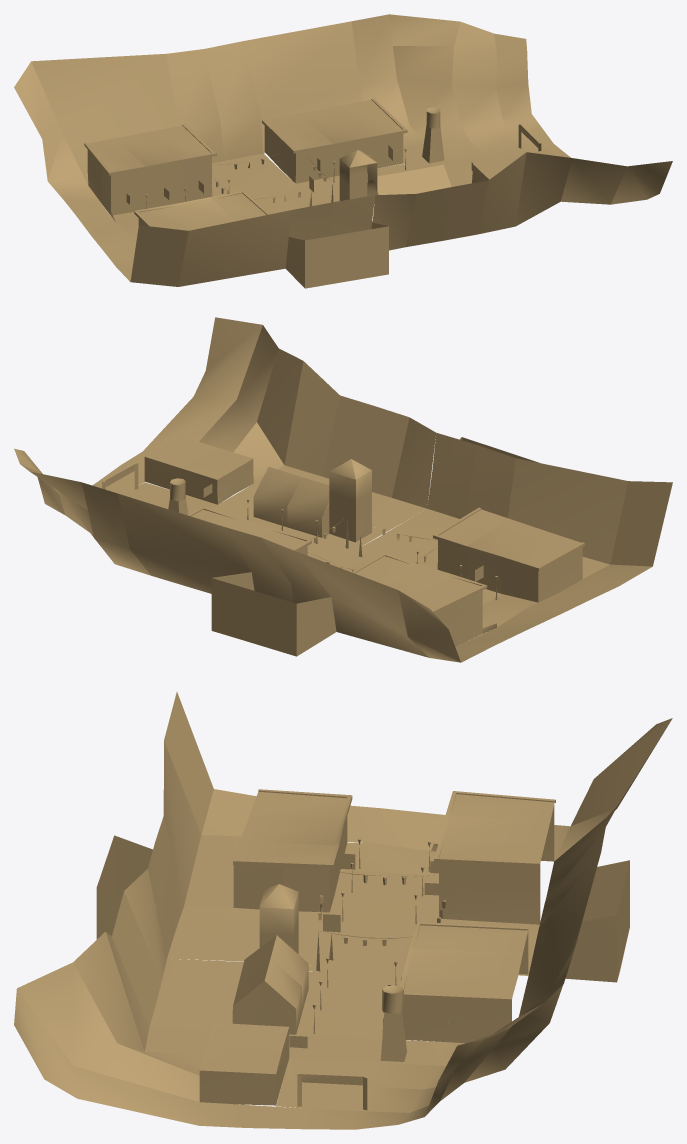
File: seciton1.fbx
3 renders of one model, top to bottom at view 1: azimuth 30°, elevation 25°; view 2: azimuth 150°, elevation 25°; view 3: azimuth 270°, elevation 25°, orthographic. The views are drawn at different scales.
Visible parts, largest first — view 1: New Game Object; view 2: New Game Object; view 3: New Game Object.
Boxes of the visible parts, <box> form: New Game Object: <box>14,14,672,288</box>; New Game Object: <box>14,317,672,662</box>; New Game Object: <box>14,692,672,1129</box>.
Size of the model in its own units: 165 by 31.4 by 137.
